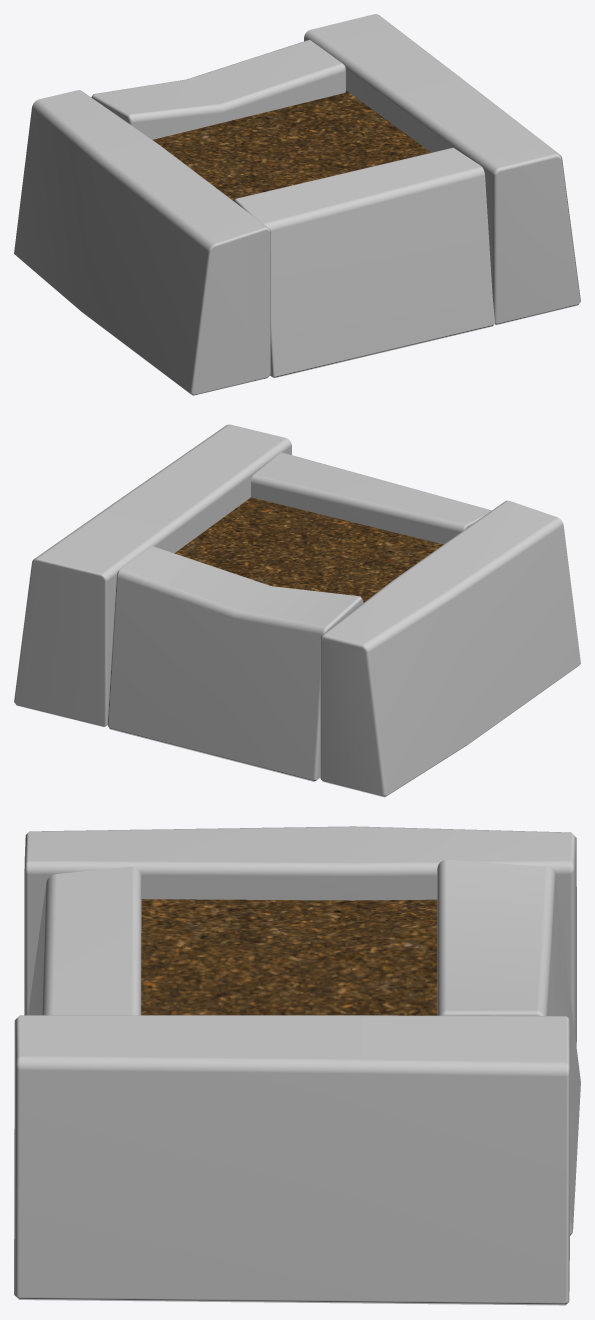
The model's file is SM_CurbPot.fbx.
The picture shows the model from 3 angles, top to bottom: view 1: azimuth 30°, elevation 25°; view 2: azimuth 150°, elevation 25°; view 3: azimuth 270°, elevation 25°; orthographic projection. The views are drawn at different scales.
Parts seen in each view (by area): view 1: SM_CurbPot_LOD0; view 2: SM_CurbPot_LOD0; view 3: SM_CurbPot_LOD0.
Part boxes in pixels (<box>): SM_CurbPot_LOD0: <box>14,14,580,395</box>; SM_CurbPot_LOD0: <box>14,424,580,797</box>; SM_CurbPot_LOD0: <box>14,826,580,1305</box>.
Size of the model in its own units: 137 by 118 by 52.31.
